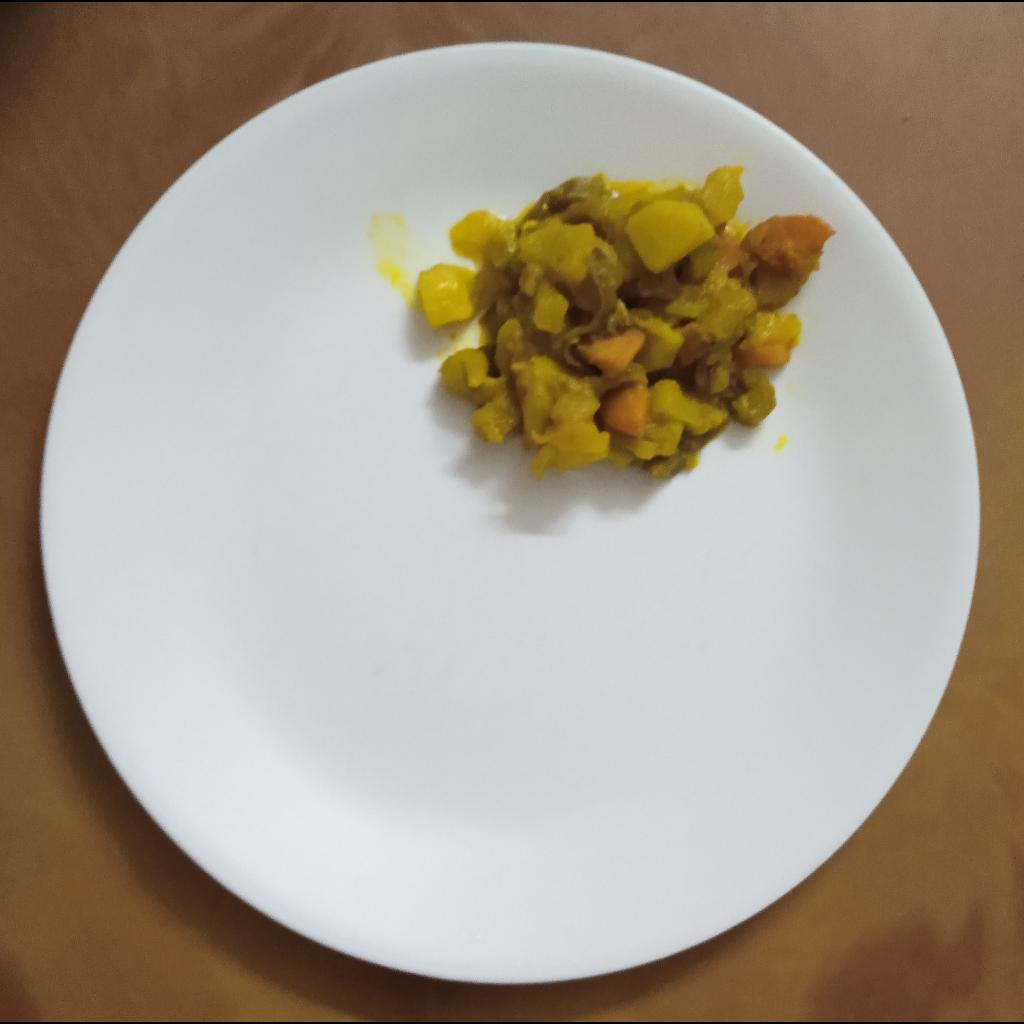vegetable: (418, 163, 832, 491)
